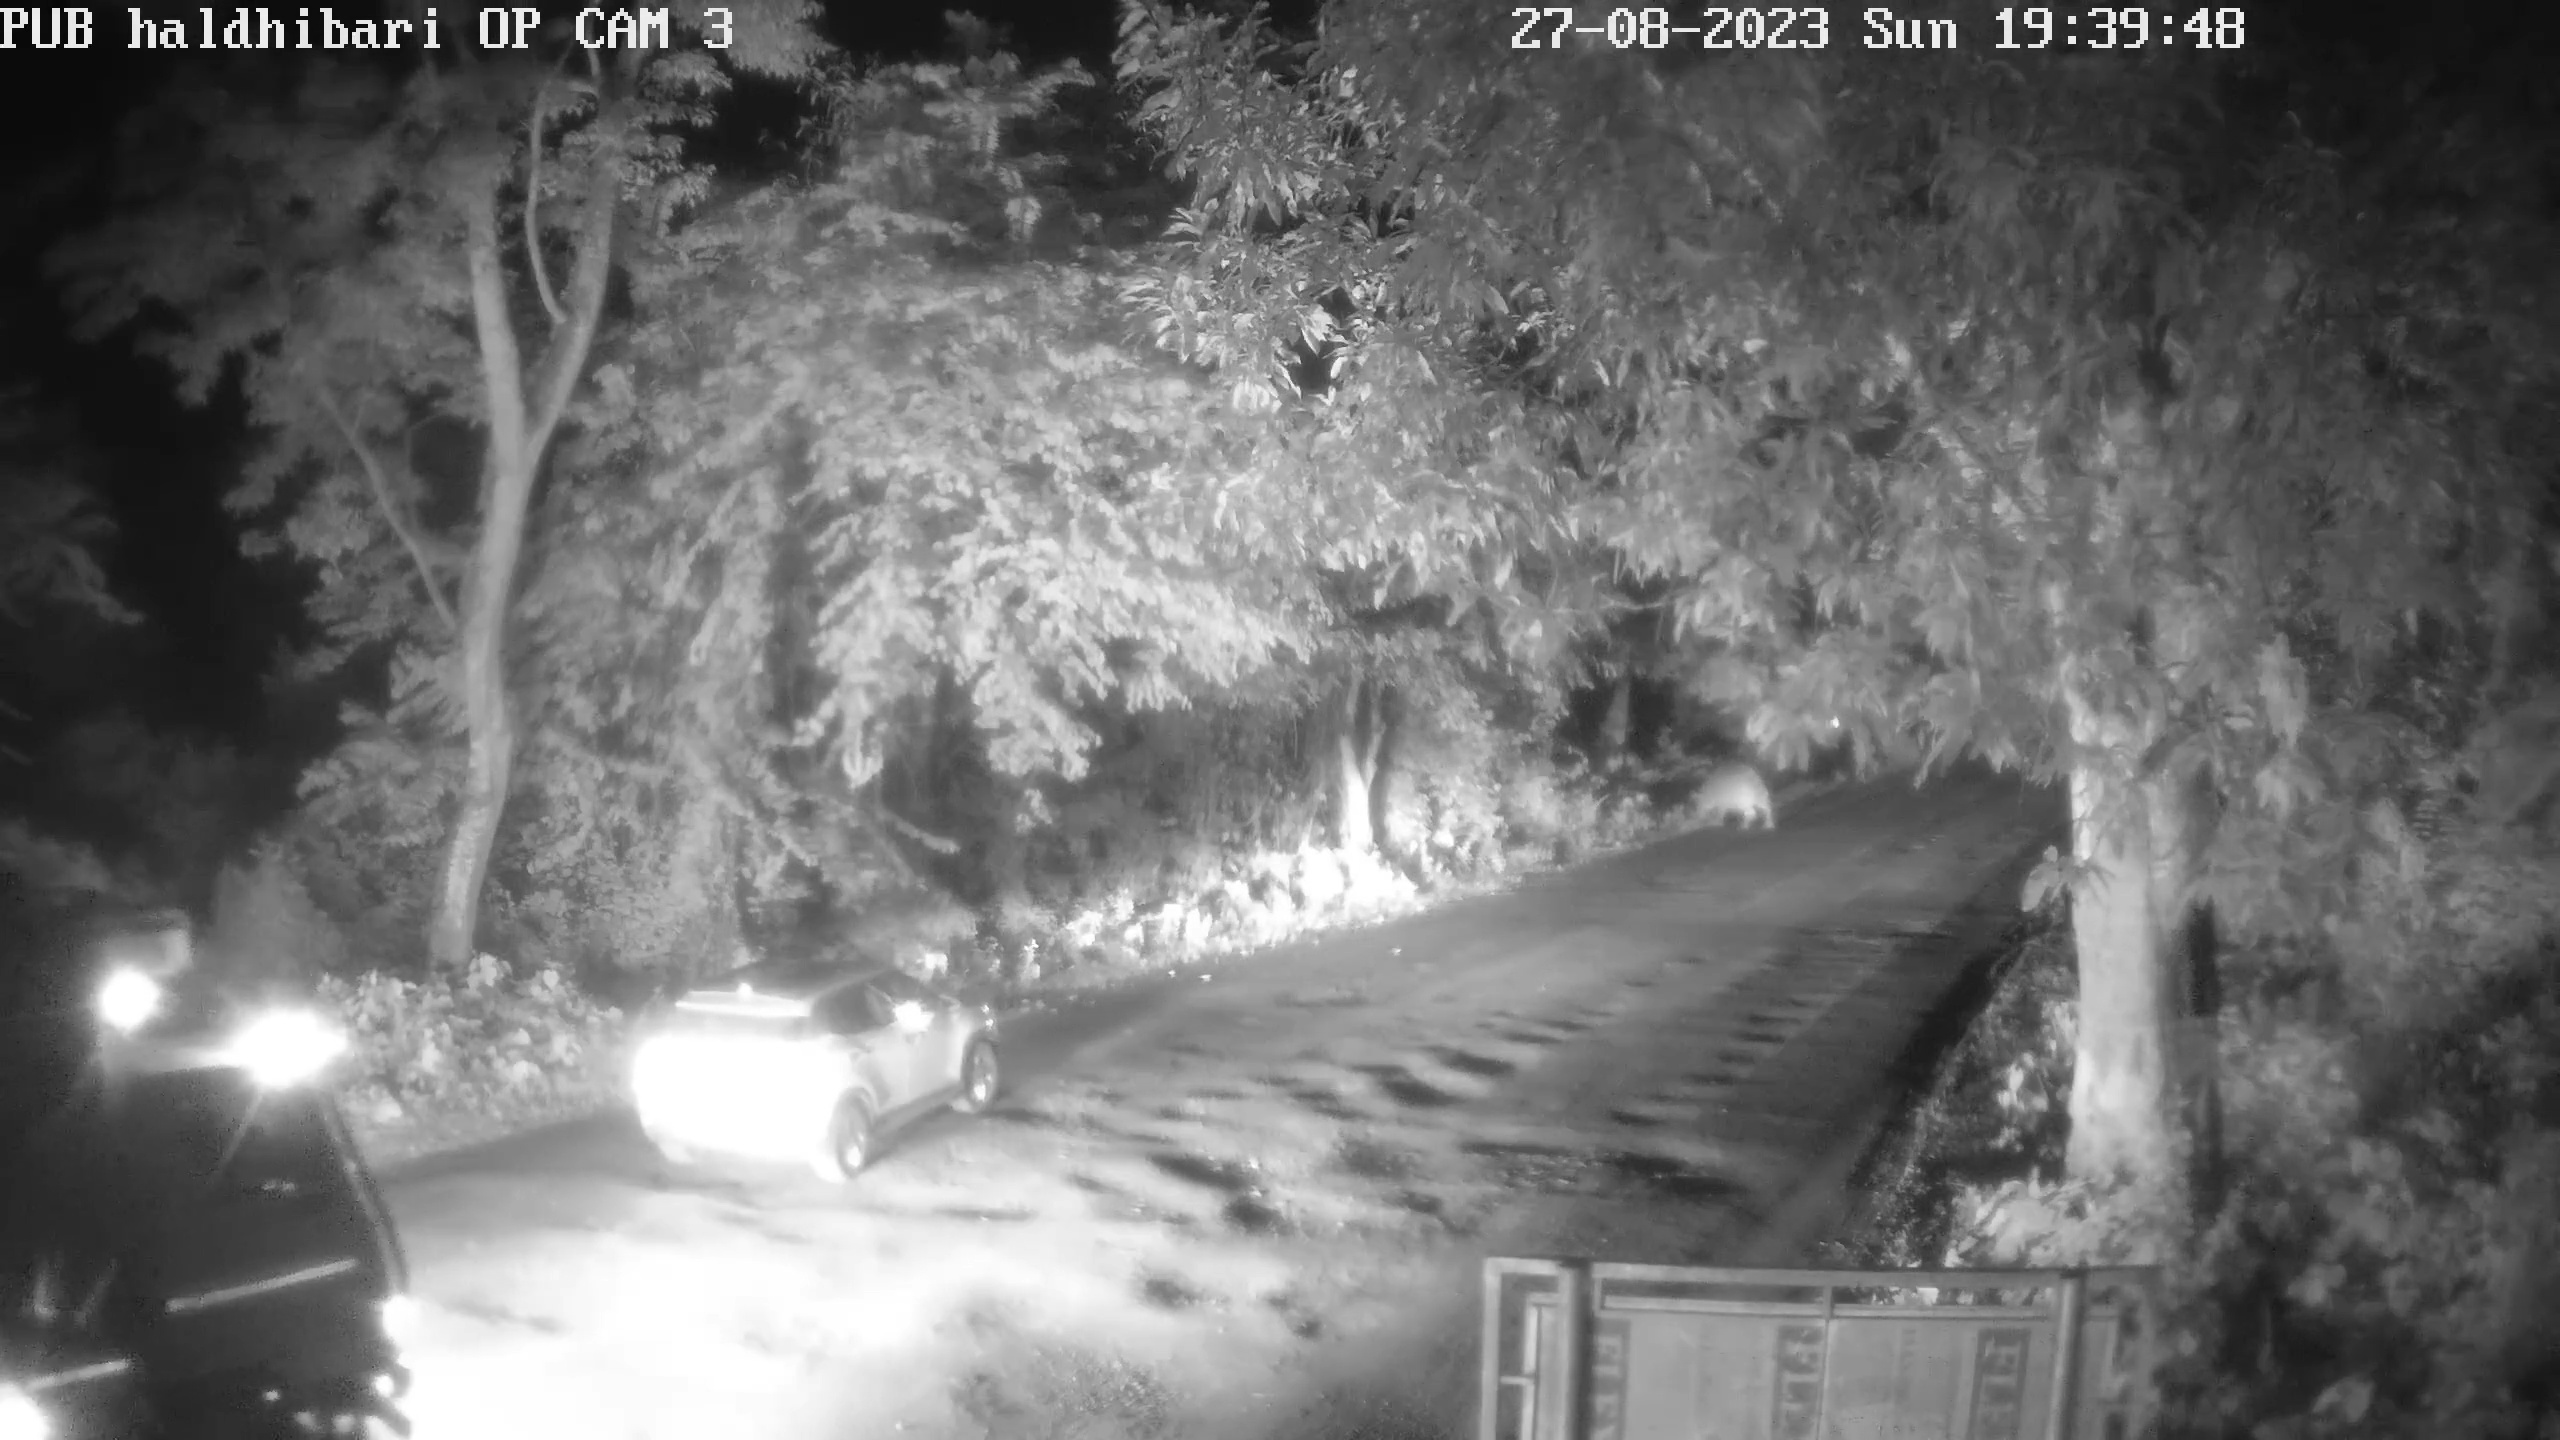rhinos: (1686, 767, 1771, 830)
